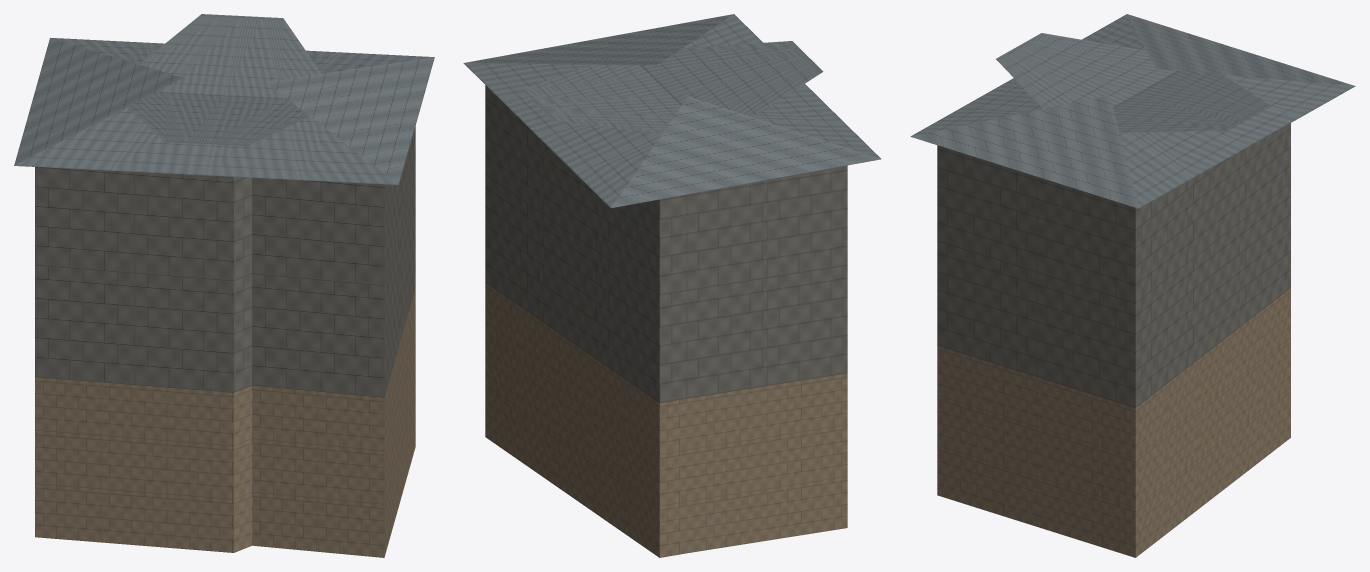
File: bld_c23_-49_529.gltf
The picture shows the model from 3 angles, left to right: view 1: azimuth 30°, elevation 25°; view 2: azimuth 150°, elevation 25°; view 3: azimuth 270°, elevation 25°; orthographic projection. The views are drawn at different scales.
Visible parts, largest first — view 1: bld_c23_-49_529; view 2: bld_c23_-49_529; view 3: bld_c23_-49_529.
Boxes of the visible parts, x1=… form: bld_c23_-49_529: x1=14, y1=14, x2=434, y2=557; bld_c23_-49_529: x1=463, y1=14, x2=881, y2=557; bld_c23_-49_529: x1=910, y1=14, x2=1355, y2=557.
Size of the model in its own units: 14.22 by 13.2 by 13.74.
3 materials, 3 textured.
